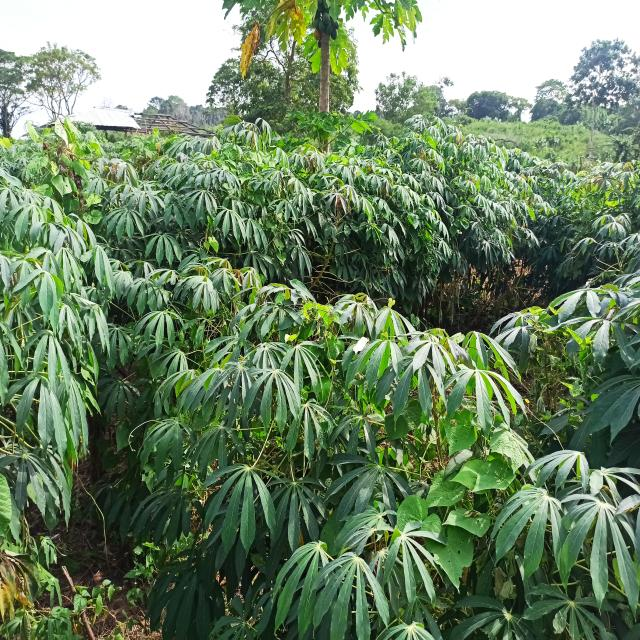Maleza: (398, 452, 517, 537), (431, 469, 477, 587)
Mosca: (230, 393, 238, 405)
